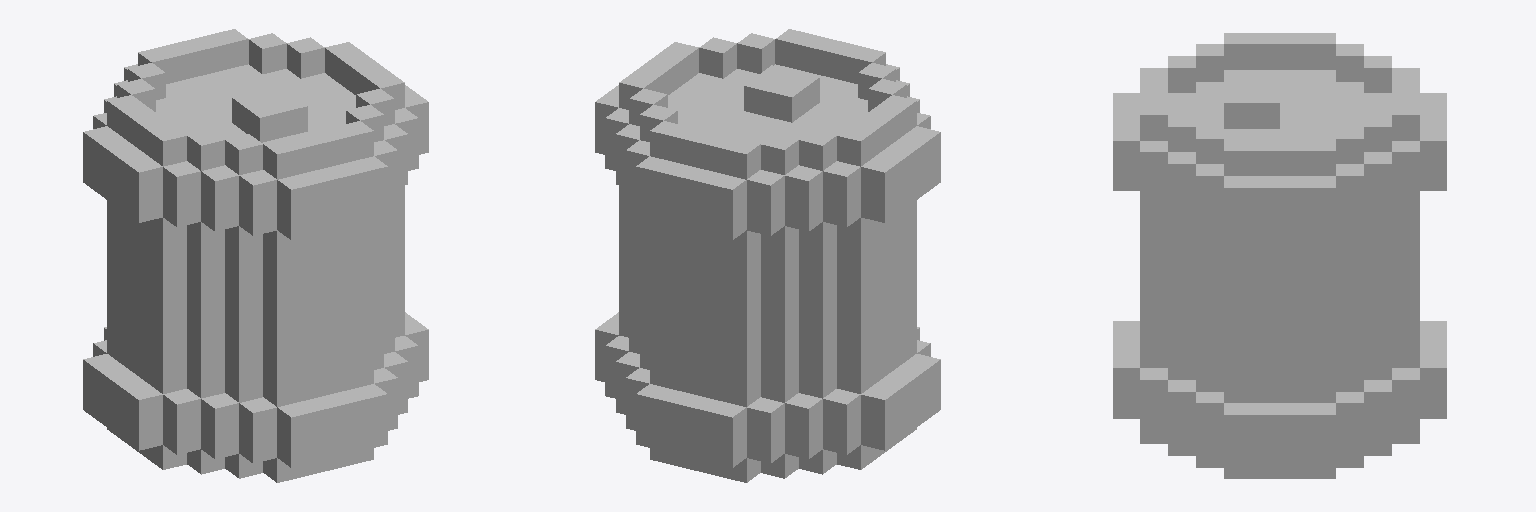
Rendered from Barrel.obj.
3 renders of one model, left to right at view 1: azimuth 30°, elevation 25°; view 2: azimuth 150°, elevation 25°; view 3: azimuth 270°, elevation 25°, orthographic.
Size of the model in its own units: 12 by 13 by 12.